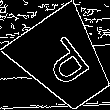P_SE: (33, 30, 96, 93)
